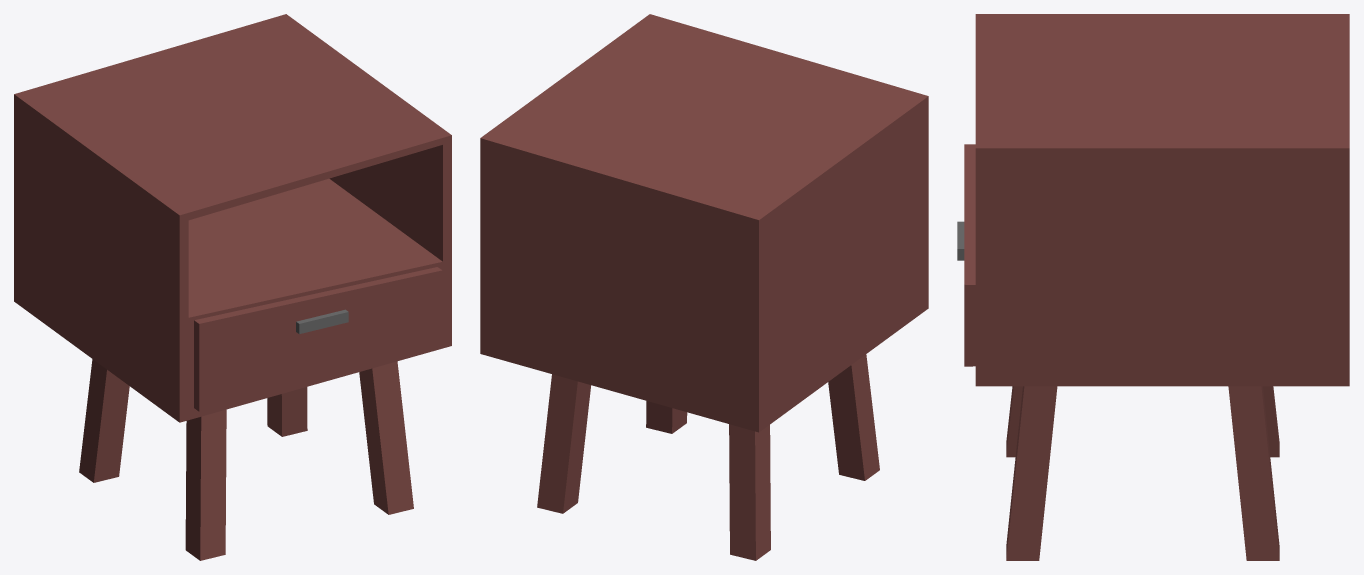
The model's file is NightStand.glb.
3 renders of one model, left to right at view 1: azimuth 30°, elevation 25°; view 2: azimuth 150°, elevation 25°; view 3: azimuth 270°, elevation 25°, orthographic. The views are drawn at different scales.
Visible parts, largest first — view 1: Nightstand; view 2: Nightstand; view 3: Nightstand.
Boxes of the visible parts, <box> form: Nightstand: <box>14,14,451,560</box>; Nightstand: <box>480,14,928,560</box>; Nightstand: <box>957,14,1349,560</box>.
Size of the model in its own units: 0.4 by 0.53 by 0.4422.
